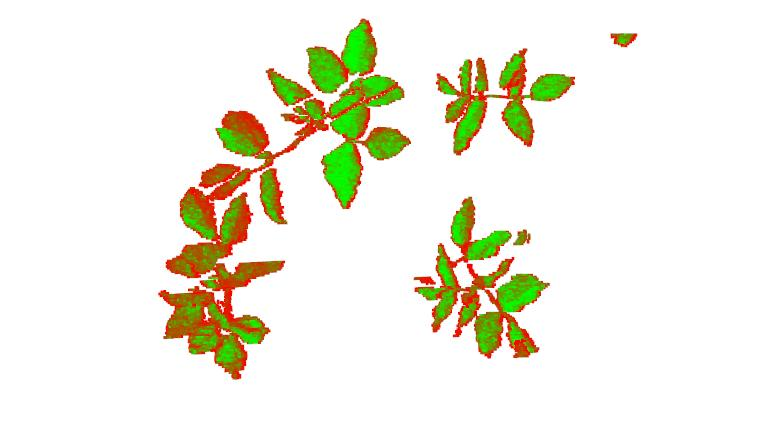mungbean: (199, 22, 400, 200), (146, 187, 285, 381), (411, 190, 561, 365), (429, 47, 581, 158)
